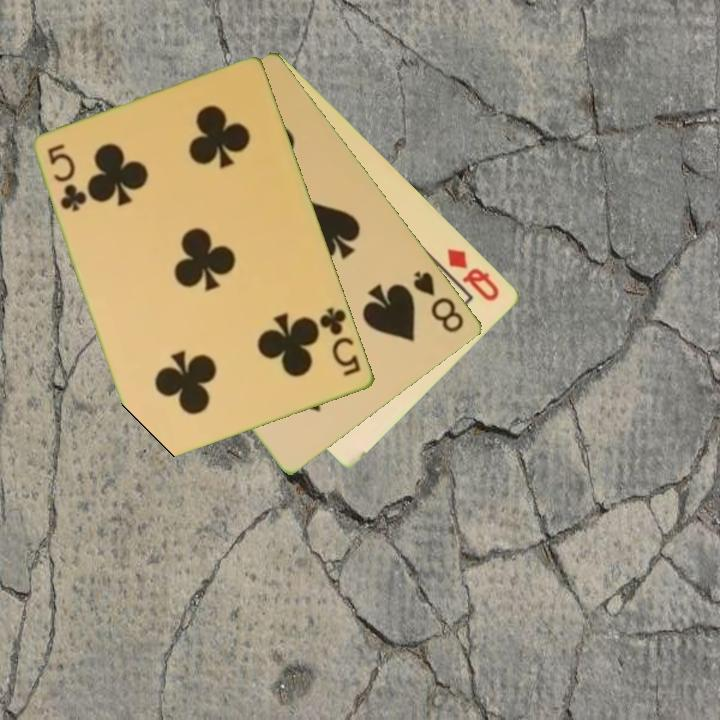5c: (316, 304, 364, 380), (44, 140, 90, 215)
8s: (410, 267, 468, 336)
Qd: (444, 245, 503, 304)
